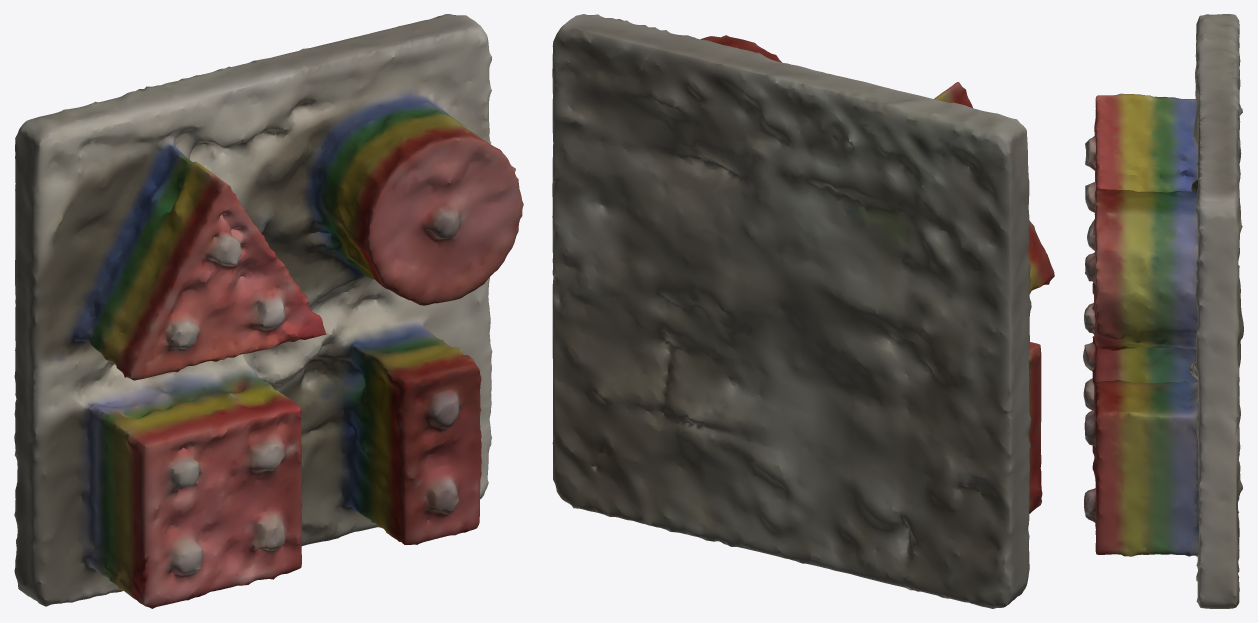
File: sorting_board.glb
3 renders of one model, left to right at view 1: azimuth 30°, elevation 25°; view 2: azimuth 150°, elevation 25°; view 3: azimuth 270°, elevation 25°, orthographic. The views are drawn at different scales.
Size of the model in its own units: 0.9932 by 0.9948 by 0.3462.
